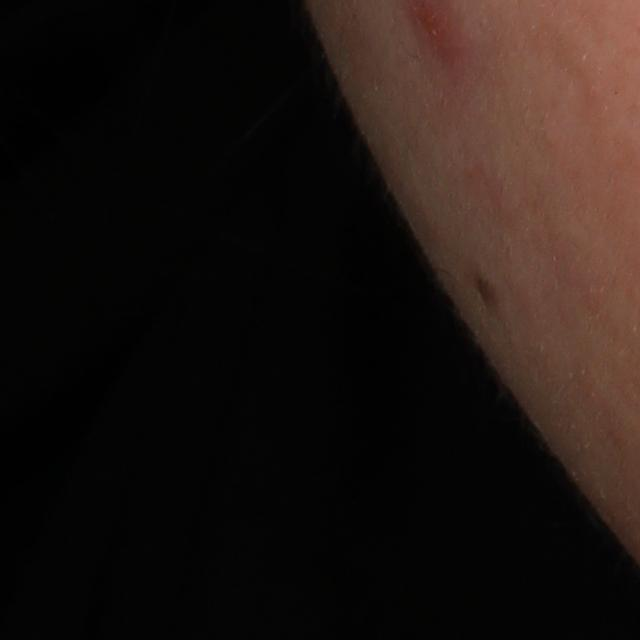nevus: (468, 268, 505, 321)
